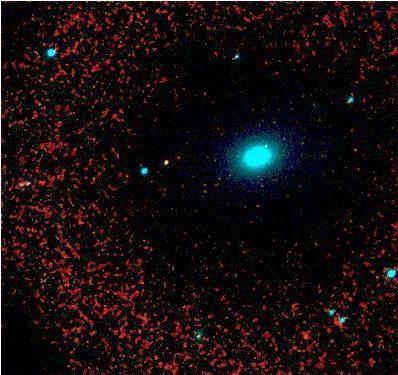star: (149, 147, 179, 177)
